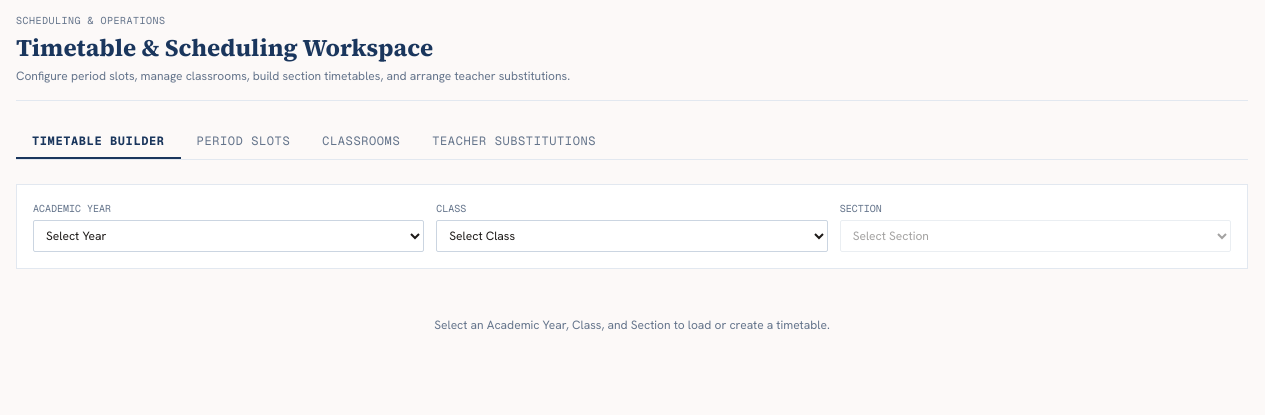
Test: TimetablePage Component › renders classrooms table
This screenshot has width=1265, height=415.
Click the button "Classrooms".
click(361, 142)  # box x1=306 y1=125 x2=416 y2=159
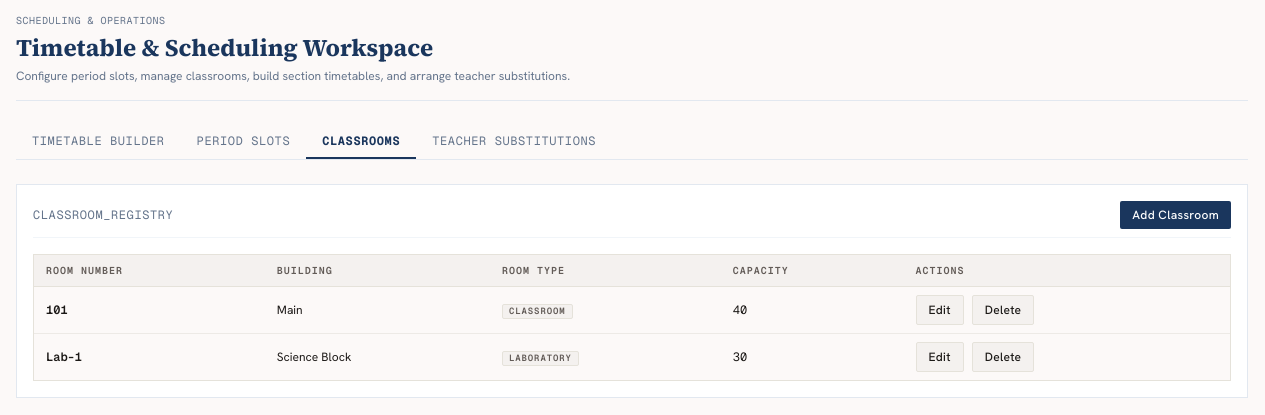
Expected: the text "101" is shown, x1=34 y1=286 x2=265 y2=334
Expected: the text "Lab-1" is shown, x1=34 y1=334 x2=265 y2=380
